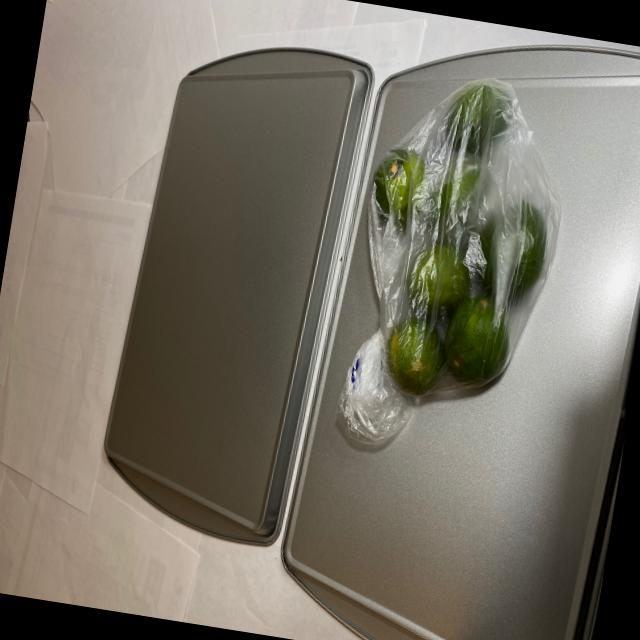lemon: (343, 68, 568, 432)
